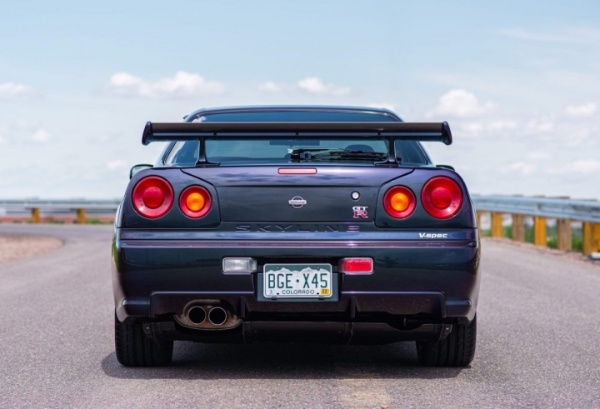licence: (258, 258, 338, 299)
